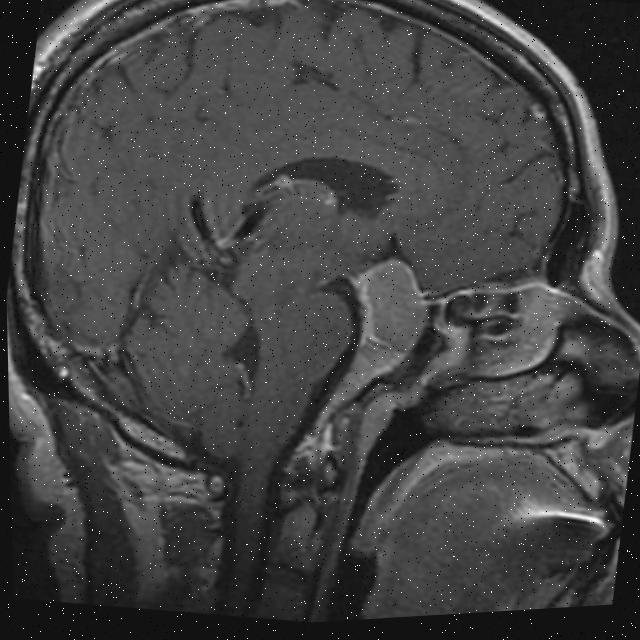Pituitary: (349, 250, 434, 359)
